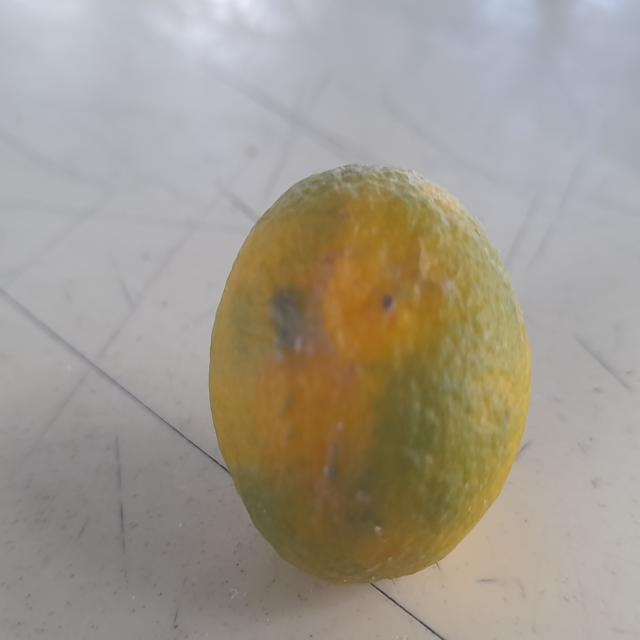greening: (193, 158, 532, 589)
